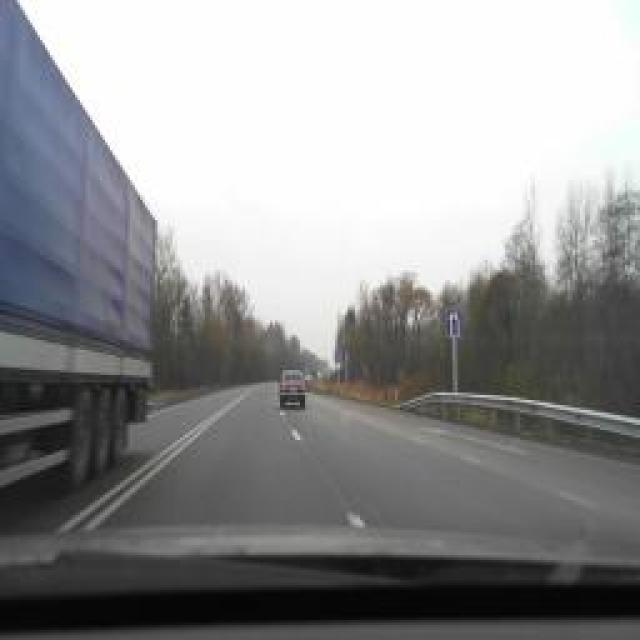sign: (446, 309, 464, 336)
